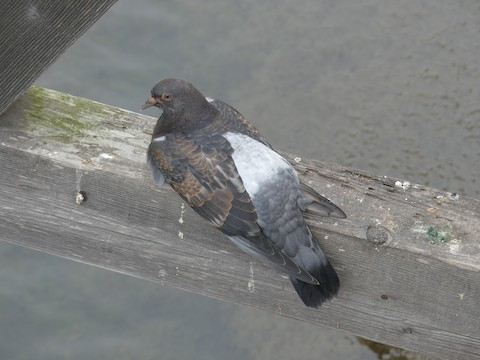pigeon: (135, 73, 355, 311)
